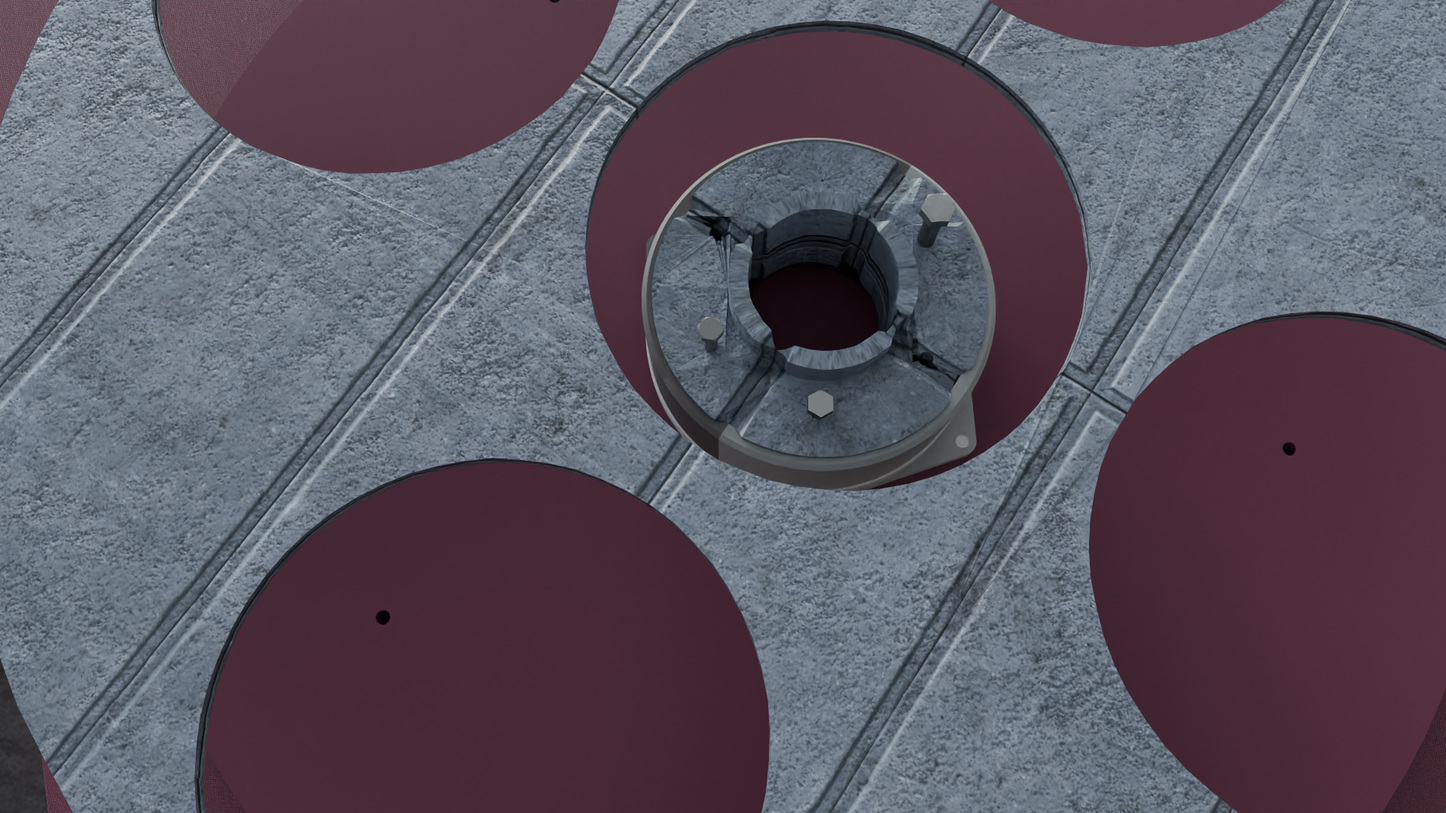bolt: (921, 193, 956, 222), (808, 390, 833, 417), (697, 317, 724, 341)
